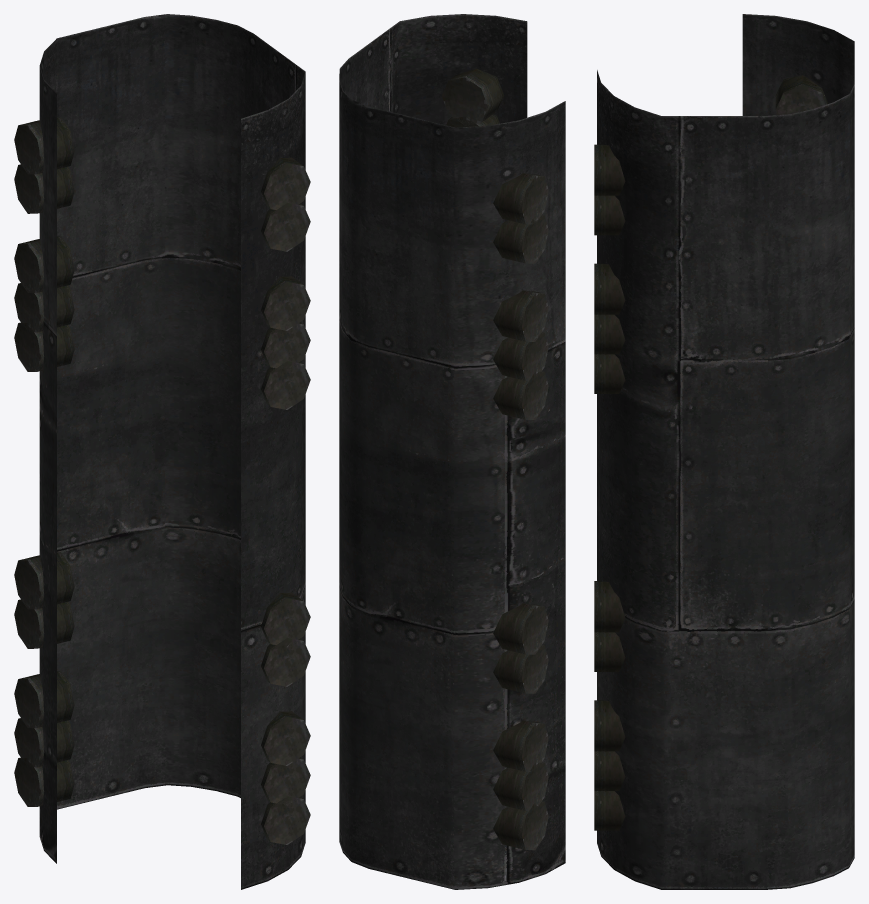
File: tesla_dressing_pipe_clusters_05_hood.dae
3 views of the same model, side by side, from view 1: azimuth 30°, elevation 25°; view 2: azimuth 150°, elevation 25°; view 3: azimuth 270°, elevation 25° (orthographic).
Visible parts, largest first — view 1: polySurface54, polySurface50, polySurface51; view 2: polySurface54, polySurface50, polySurface51; view 3: polySurface54, polySurface51, polySurface50.
Part boxes in pixels (bbox=[...]): polySurface54: bbox=[39, 14, 305, 889]; polySurface50: bbox=[14, 117, 74, 806]; polySurface51: bbox=[261, 157, 310, 844]; polySurface54: bbox=[339, 14, 565, 889]; polySurface50: bbox=[493, 173, 548, 850]; polySurface51: bbox=[442, 68, 504, 127]; polySurface54: bbox=[597, 14, 854, 889]; polySurface51: bbox=[594, 144, 625, 830]; polySurface50: bbox=[775, 75, 827, 114].
Bounding box in the file's own units: 1378 × 4875 × 1485.
